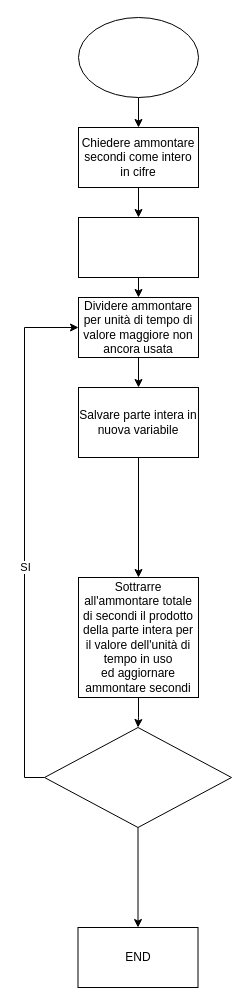
Some shapes in this 249 by 1005 pixel diagram are drawn without their labels. Each missing label, with the box of its shape:
Salvare ammontare in nuova variabile: (78, 216, 198, 278)
Sono disponibili altre unità di tempo?: (44, 726, 232, 828)
START: (78, 16, 198, 98)
